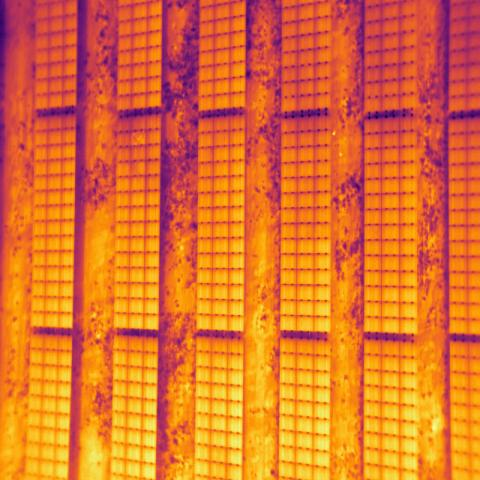fault: (130, 131, 146, 146)
